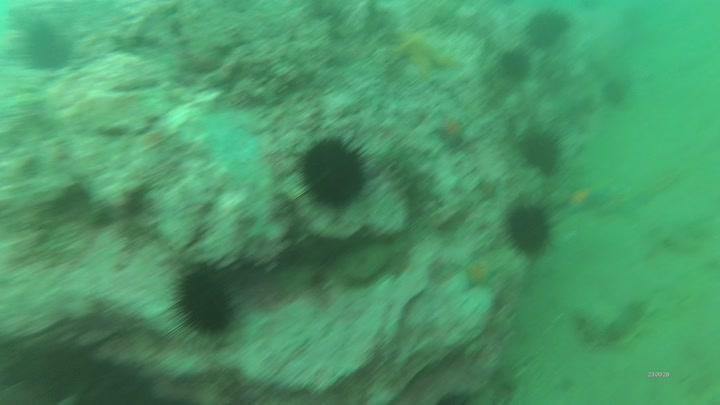urchin: (292, 134, 371, 211), (167, 271, 236, 337), (504, 202, 554, 259), (519, 125, 568, 178), (524, 6, 572, 50)
